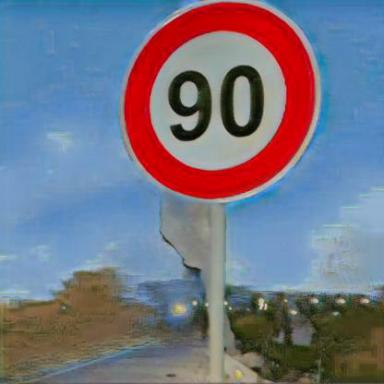Speed_limit_90: (124, 5, 312, 195)
